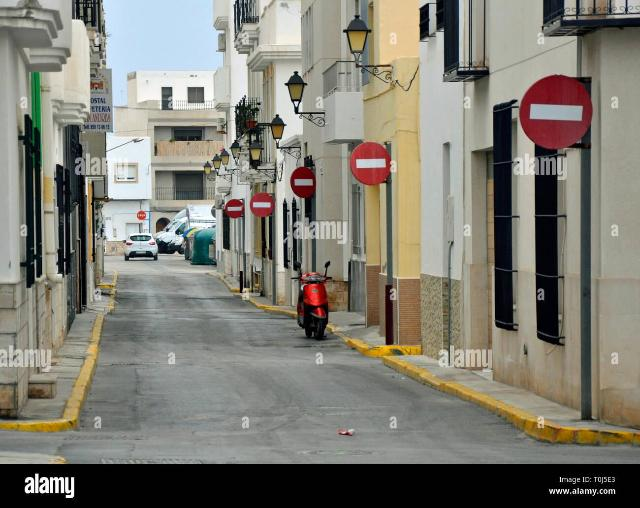B2: (518, 74, 592, 150), (349, 141, 391, 185), (290, 166, 316, 198), (248, 192, 274, 218), (224, 198, 244, 218)
